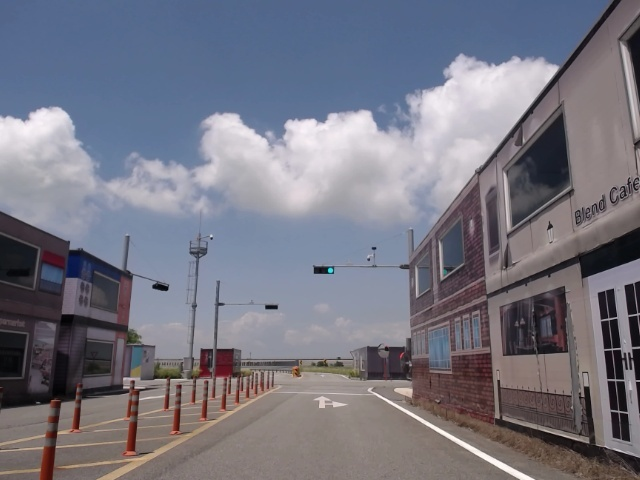green_3: (314, 267, 334, 274)
